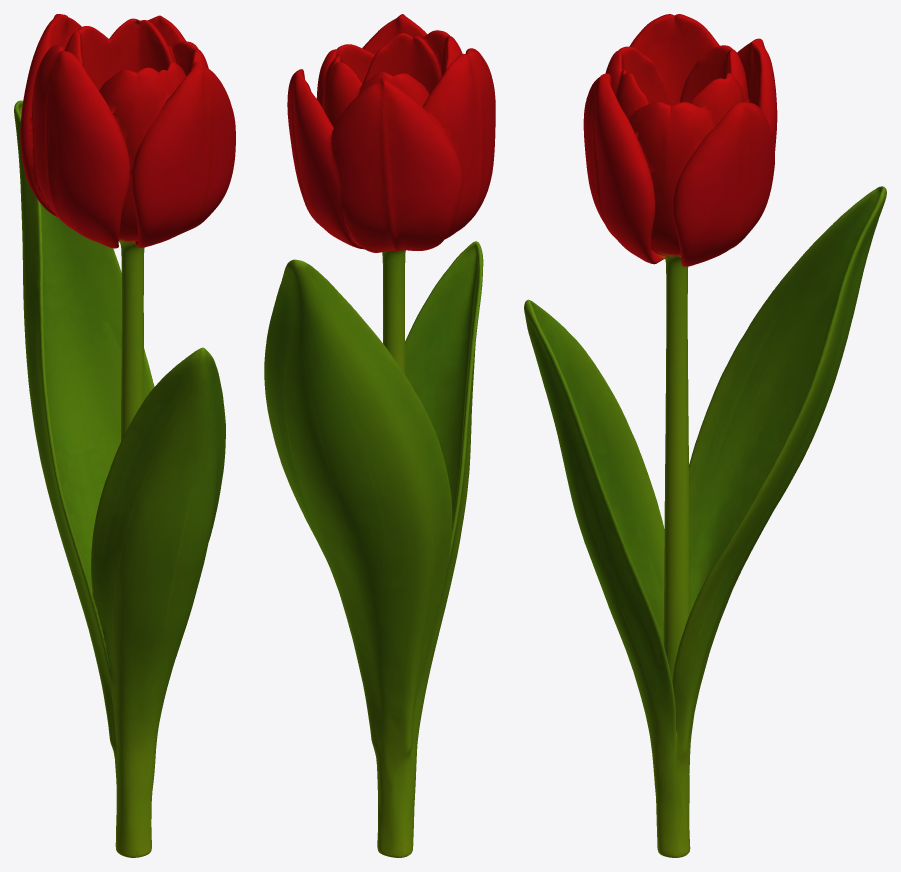
Rendered from Tulip.glb.
3 views of the same model, side by side, from view 1: azimuth 30°, elevation 25°; view 2: azimuth 150°, elevation 25°; view 3: azimuth 270°, elevation 25° (orthographic). The views are drawn at different scales.
Parts seen in each view (by area): view 1: tripo_node_7982d39a-e1fe-4390-94df-d4687f34d50d; view 2: tripo_node_7982d39a-e1fe-4390-94df-d4687f34d50d; view 3: tripo_node_7982d39a-e1fe-4390-94df-d4687f34d50d.
Boxes of the visible parts, bbox=[...] form: tripo_node_7982d39a-e1fe-4390-94df-d4687f34d50d: bbox=[14, 14, 235, 857]; tripo_node_7982d39a-e1fe-4390-94df-d4687f34d50d: bbox=[264, 14, 495, 857]; tripo_node_7982d39a-e1fe-4390-94df-d4687f34d50d: bbox=[524, 14, 886, 857].
Size of the model in its own units: 0.2264 by 1 by 0.4092.
1 material, 1 textured.
